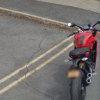Motorcycle: (54, 14, 100, 100)
